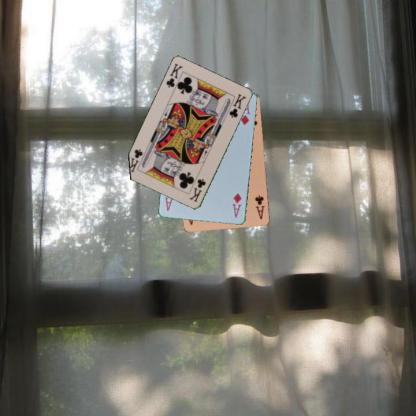Ac: (252, 192, 266, 221)
Ad: (230, 191, 243, 219)
Kc: (186, 176, 206, 204), (164, 61, 184, 89)
